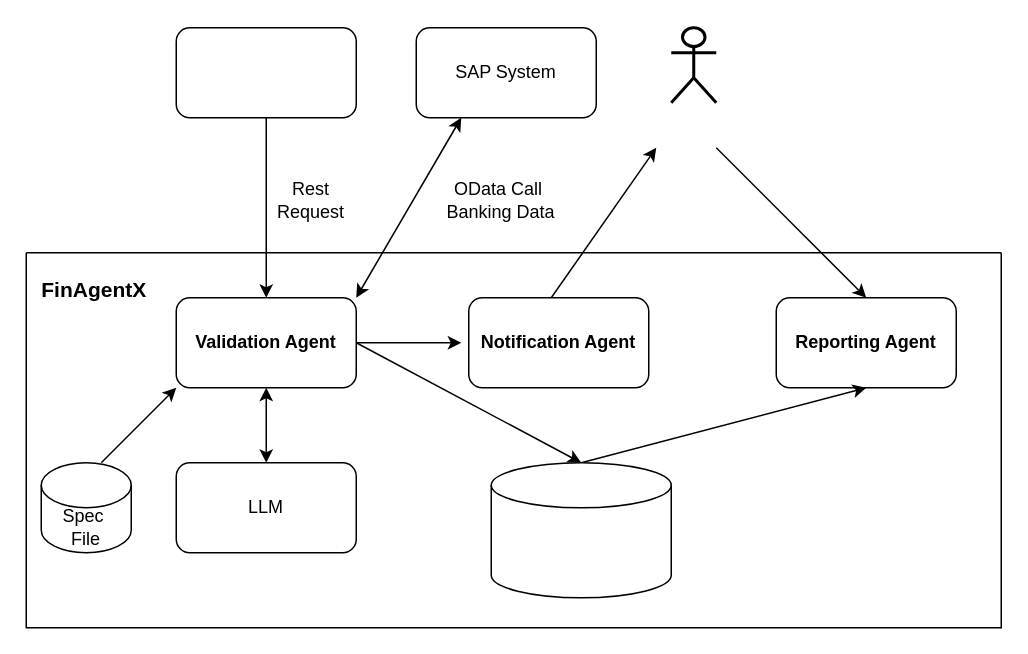
Image size: 1028x654. Some labels were removed from this diagram. The shapes that lost their labels are listed below. From the top down, each one's centre as x and y in pixels, then its label:
At point (265, 72): "Calling Application".
At point (693, 65): "Accounant".
At point (580, 529): "Validation Results".
